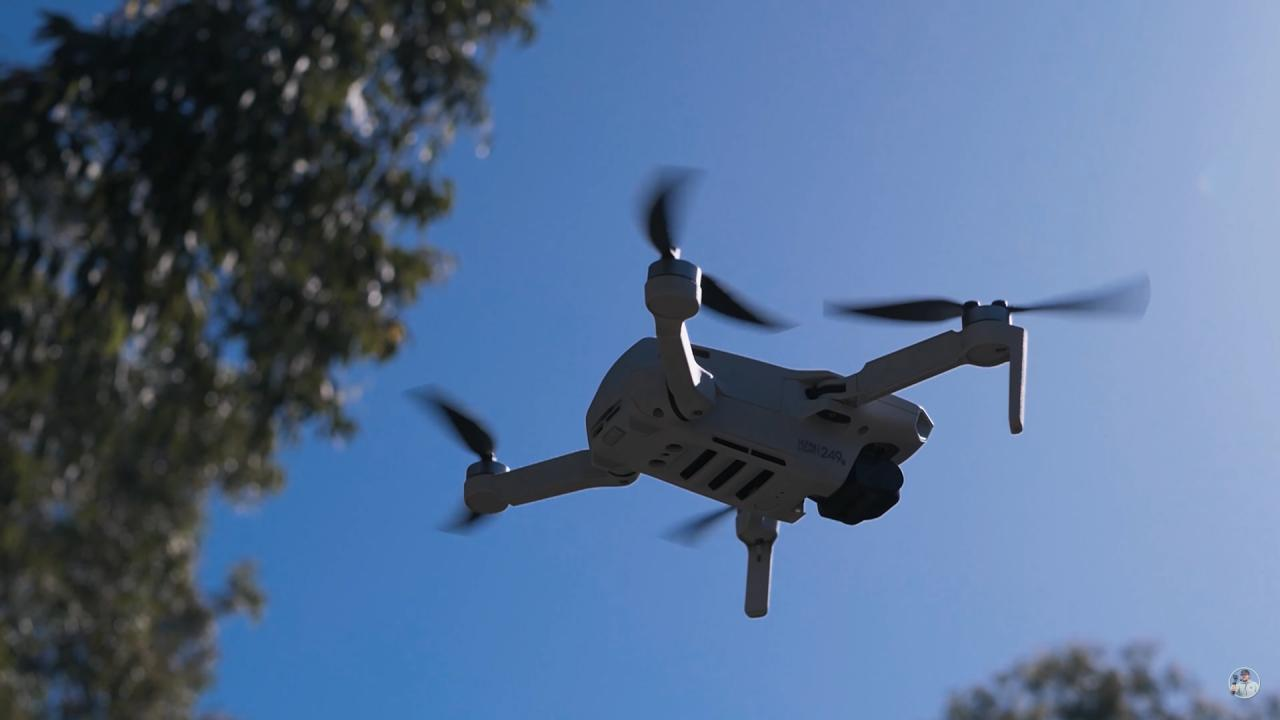Drone: (384, 156, 1162, 626)
